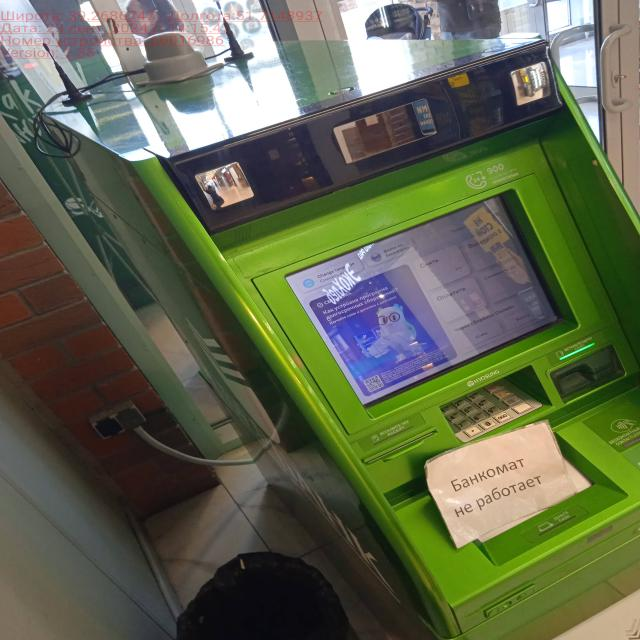bank: (22, 37, 640, 640)
